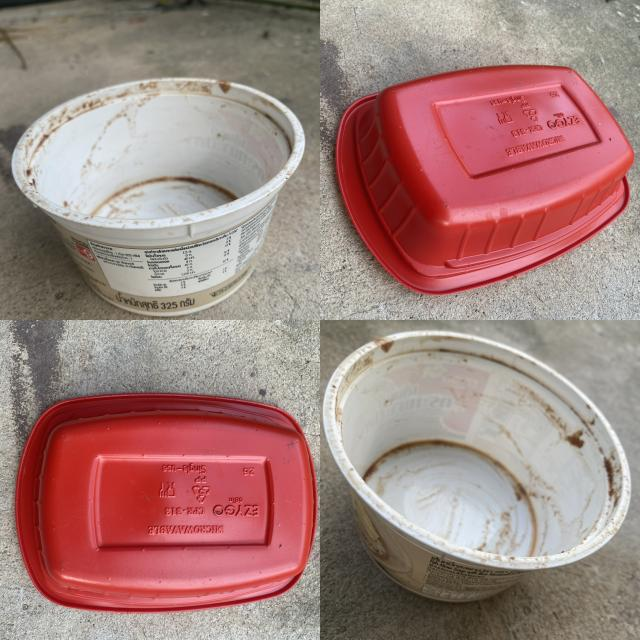Single-Use-Plastic: (324, 331, 629, 602), (12, 79, 305, 316), (336, 66, 634, 293), (16, 395, 316, 612)
